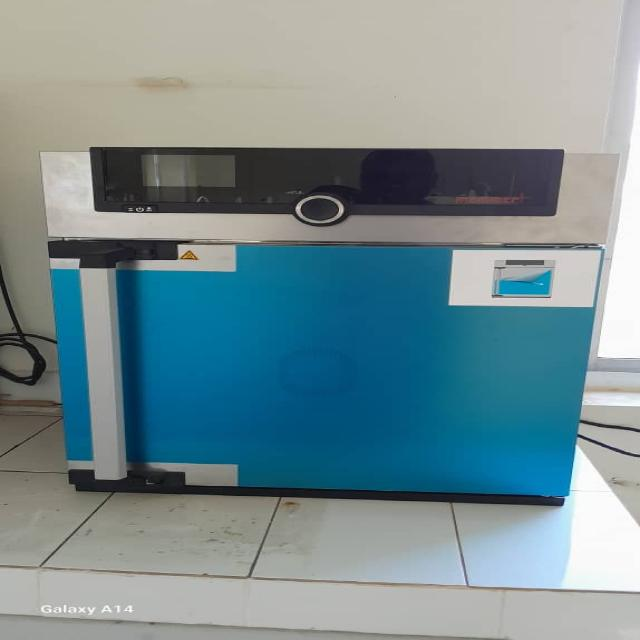Incubator: (27, 142, 622, 504)
